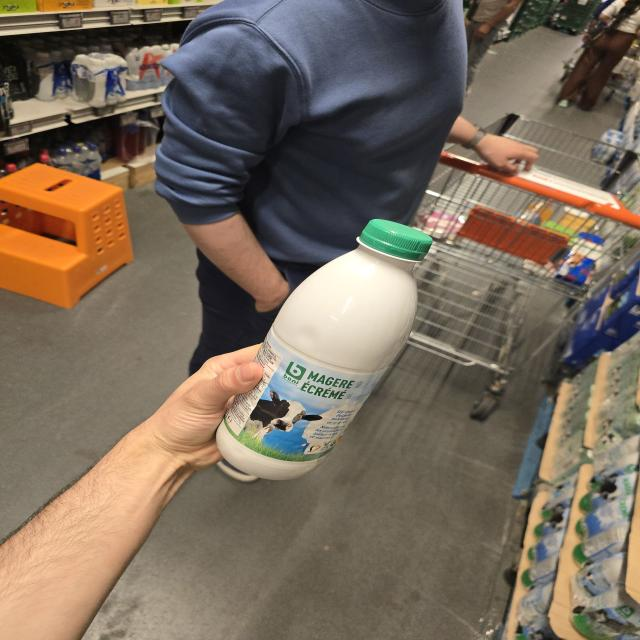Milk: (217, 220, 432, 480)
